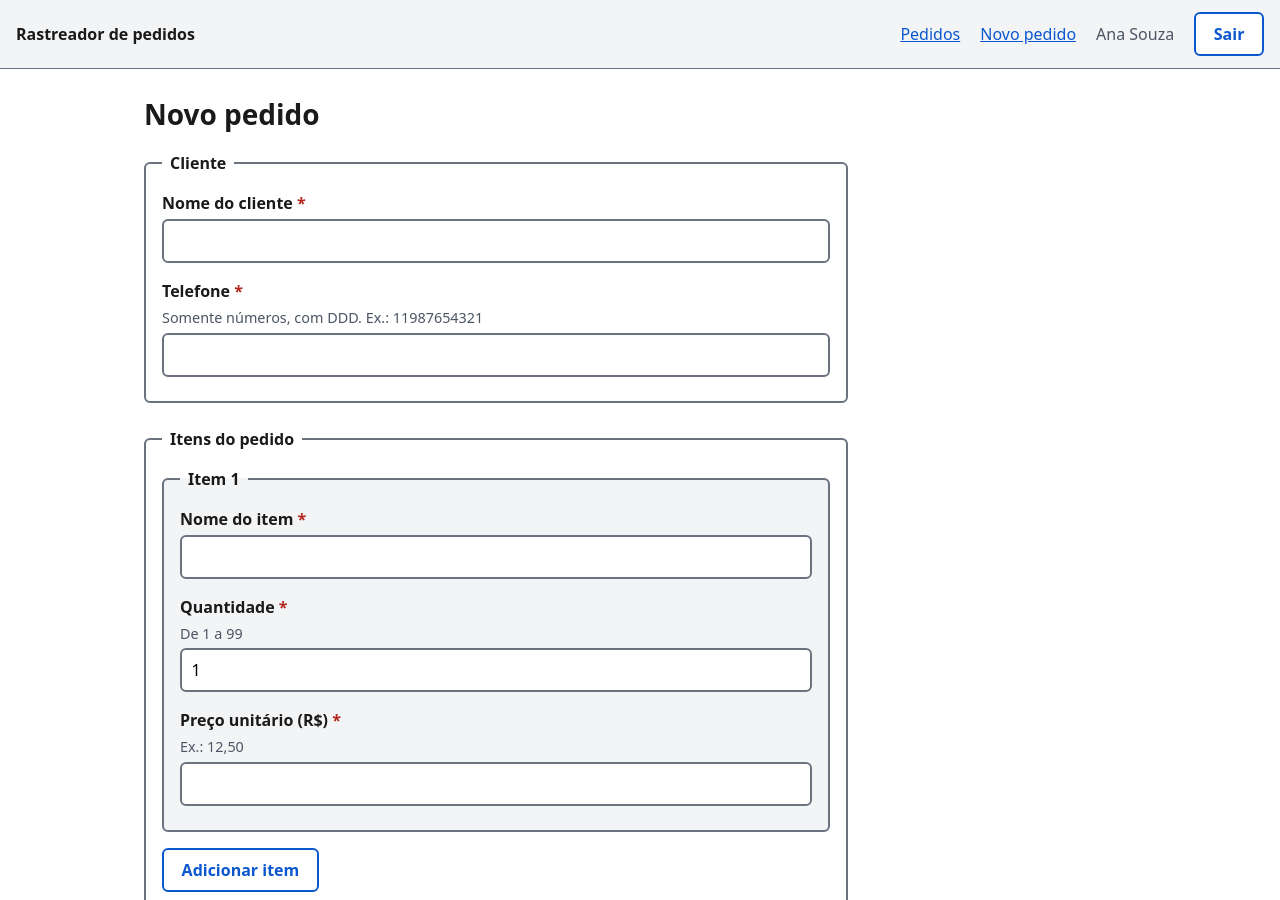
Test: NewOrderPage › mostra o total do pedido atualizado ao digitar e ao adicionar itens
expect the heading "Novo pedido" is shown: met, box [144, 95, 320, 133]
Replace the text in the field labelled "Quantidade *" with "2" at x=496, y=670, box [180, 648, 812, 692]
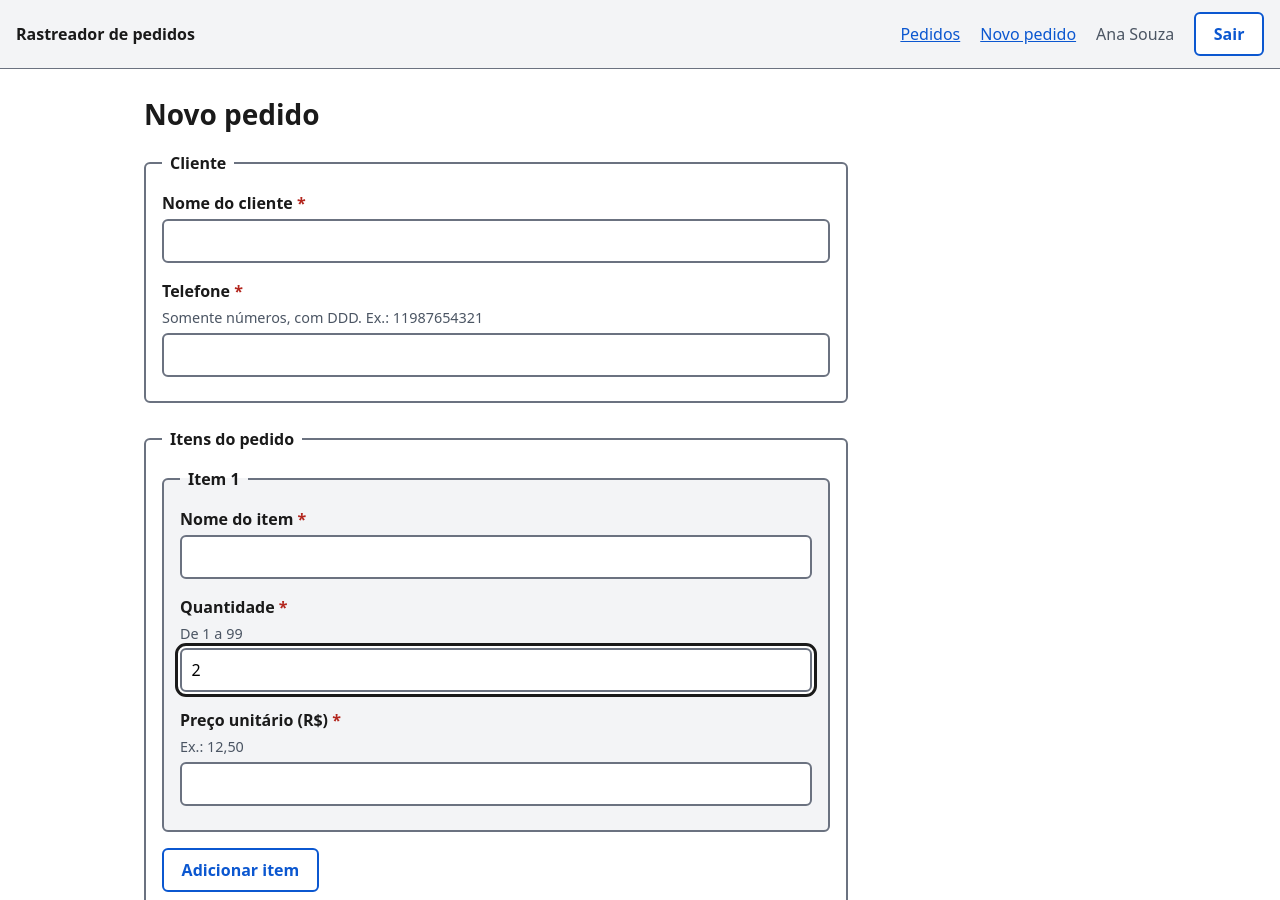
Type "12" into the field labelled "Preço unitário (R$) *" at x=496, y=784, box [180, 762, 812, 806]
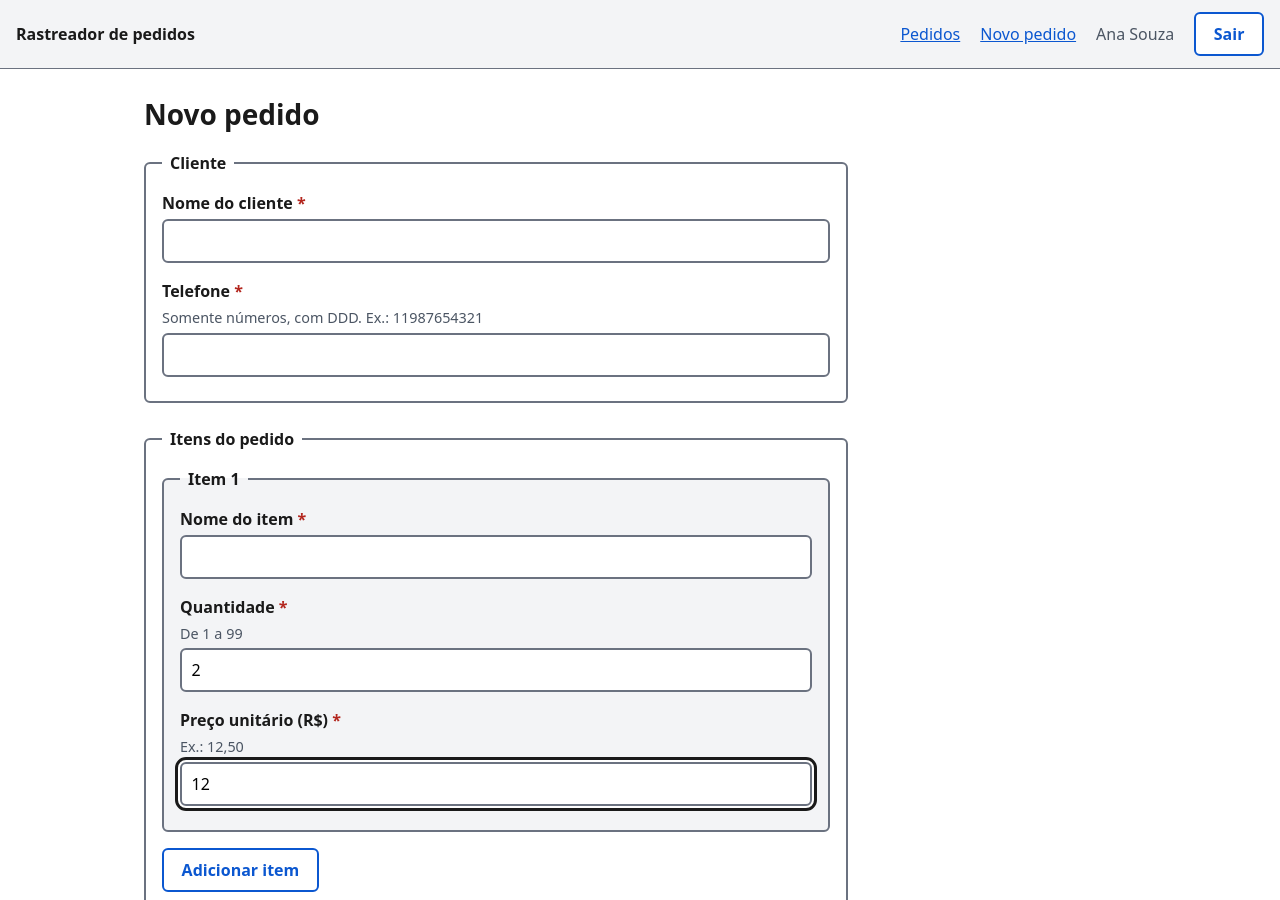
Click the button "Adicionar item" at x=240, y=870, box [162, 848, 319, 892]
(page scrolled)
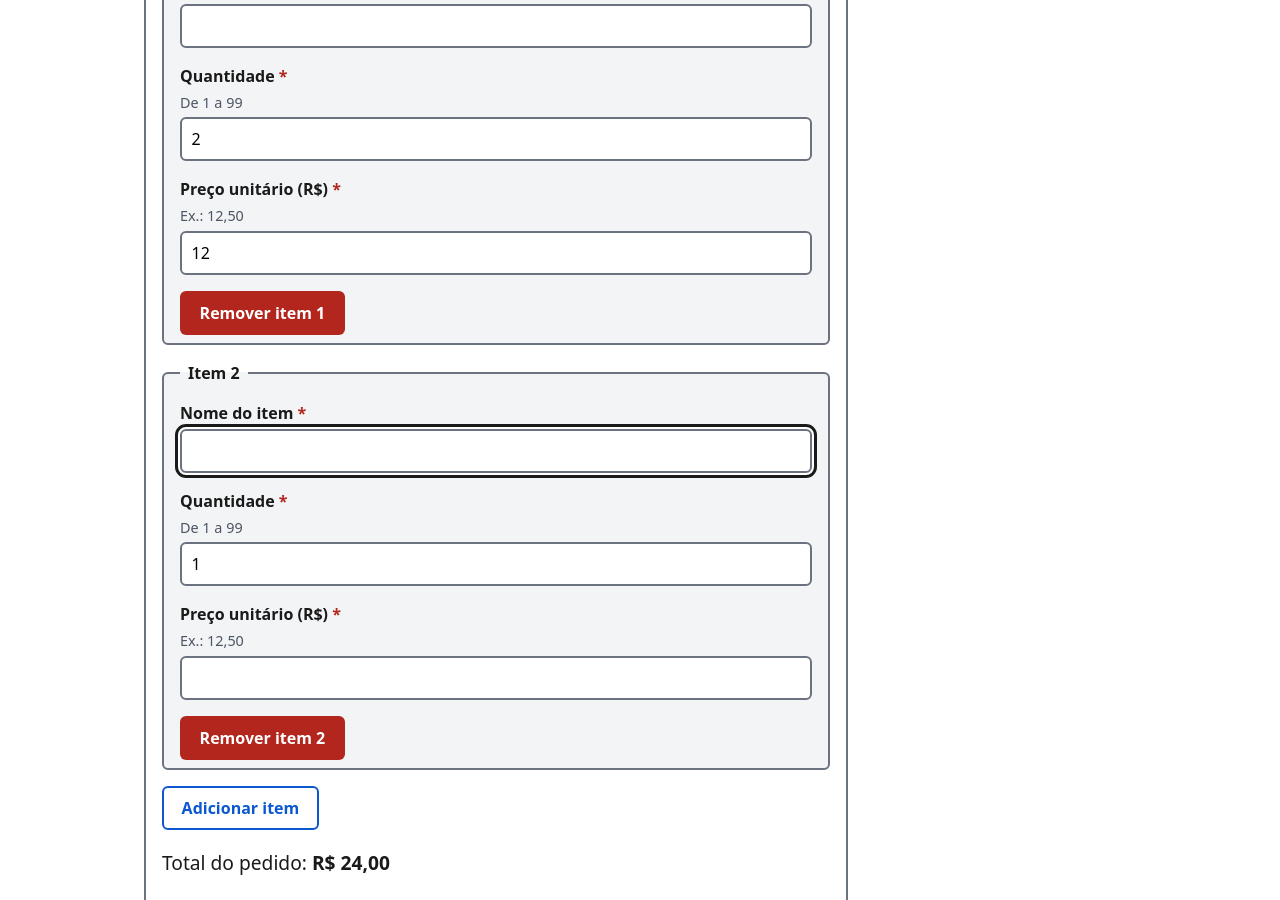
Type "54,90" into the 2nd field labelled "Preço unitário (R$) *" at x=496, y=678, box [180, 656, 812, 700]
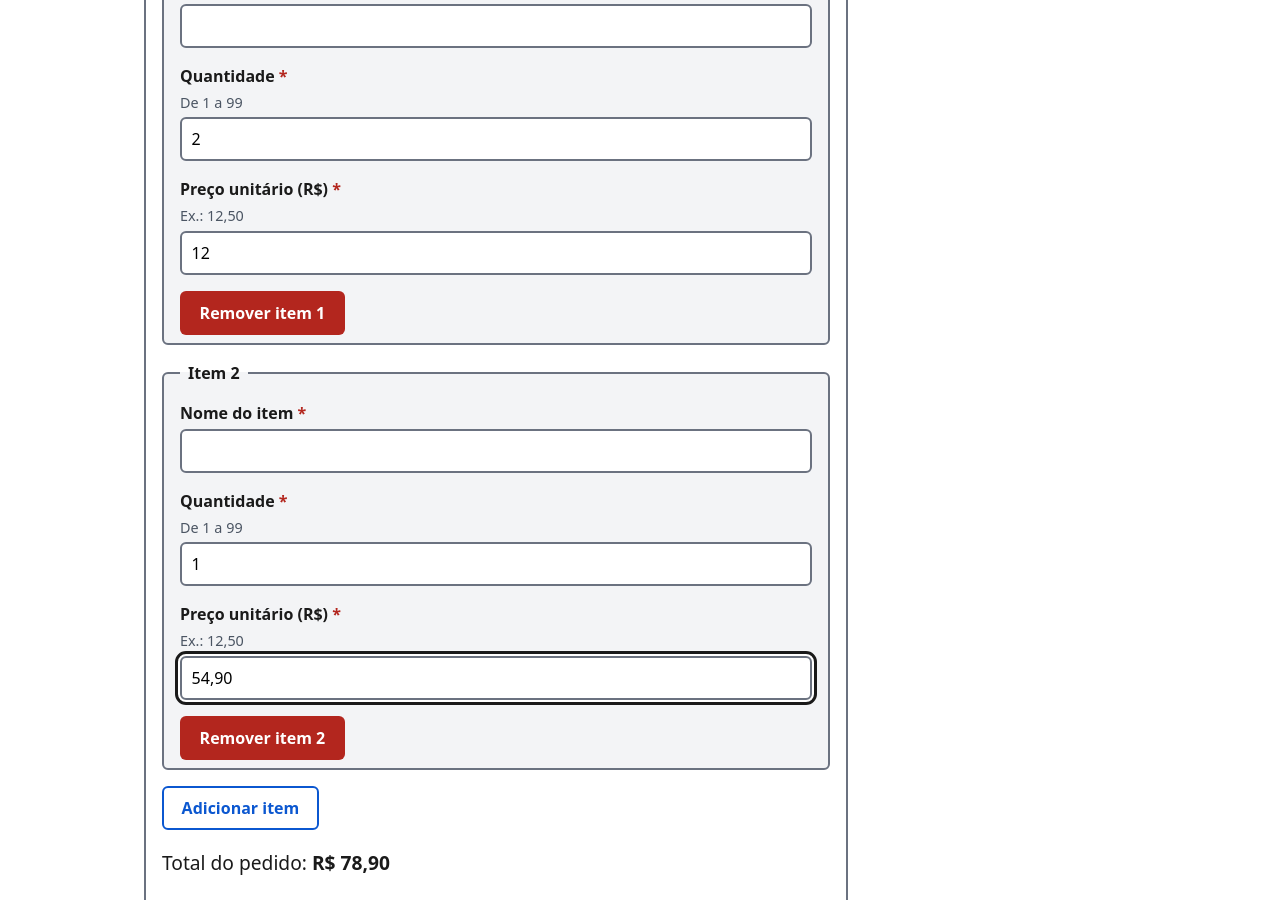
expect the text "Total do pedido: R$ 78,90" is shown: met, box [162, 849, 390, 876]
